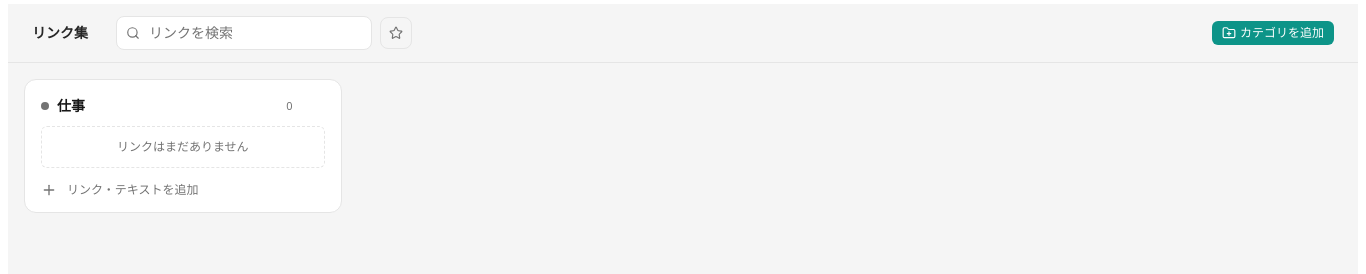
<LinkShelf /> › URL を入れて Enter でリンクを足し、窓口から取った名前に置き換える
The width and height of the screenshot is (1366, 274).
Click the button "リンク・テキストを追加": point(183, 190) 33,176 -> 332,204
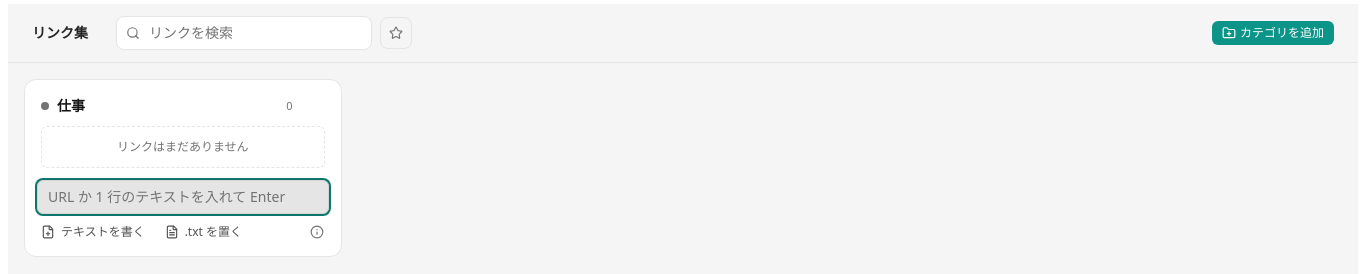
In the field named "URL か、1 行のテキスト": point(183, 197) 37,180 -> 328,214, type "example.com"
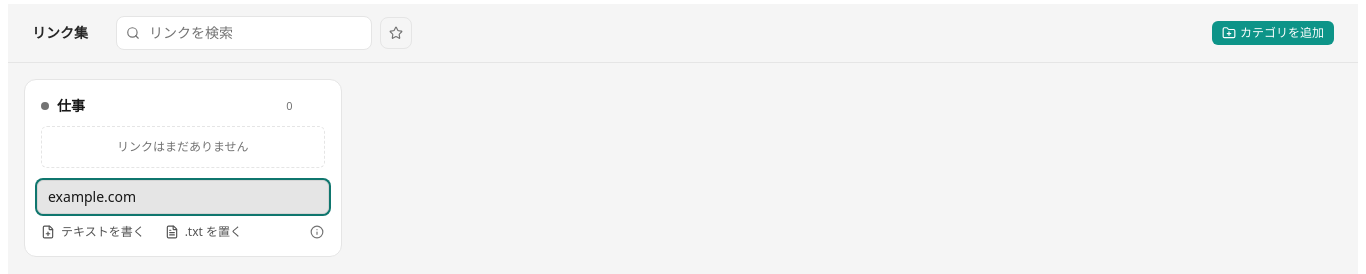
Press Enter in the field named "URL か、1 行のテキスト", box 37,180 -> 328,214
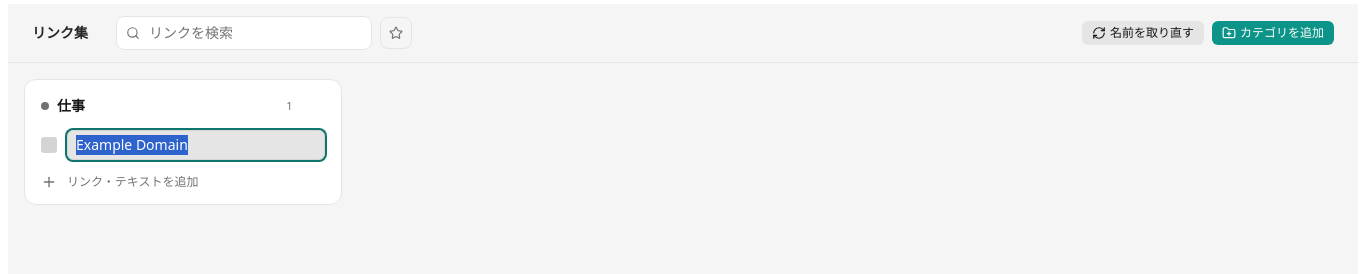
Now the field named "リンクの名前" holds "Example Domain", box 67,130 -> 324,160
